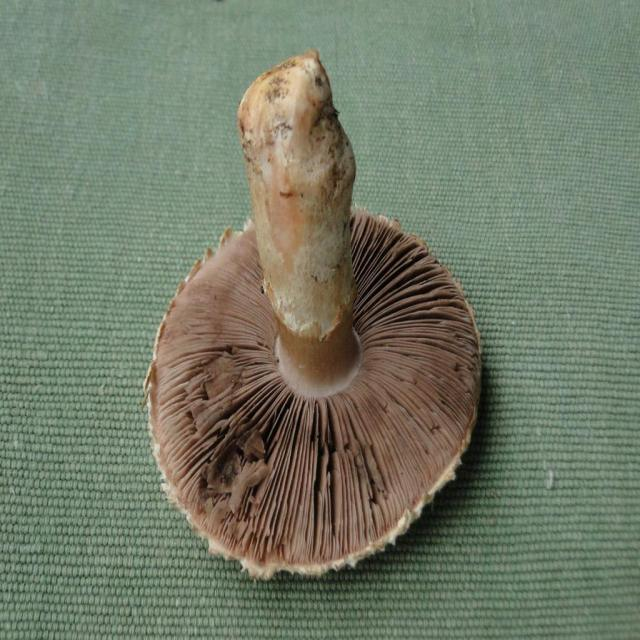Agaricus bisporus: (148, 68, 487, 584)
